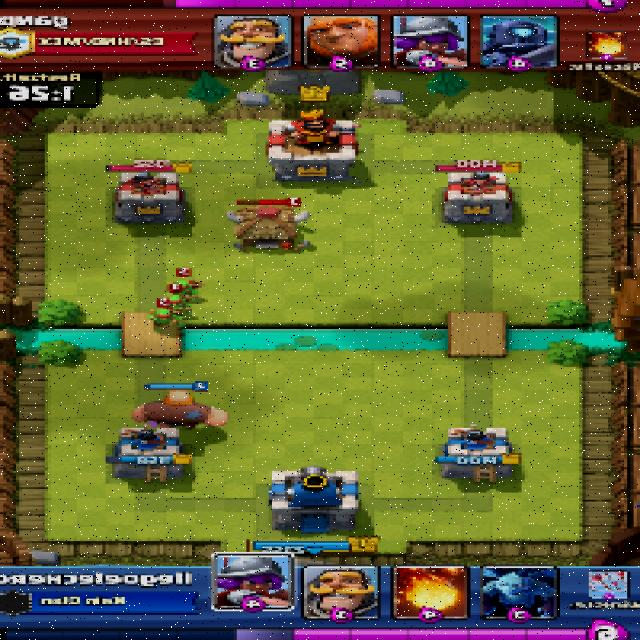Enemy-GoblinHut: (226, 206, 315, 252)
Enemy-SpearGoblin: (151, 307, 186, 330), (162, 296, 190, 316), (171, 279, 200, 292)
Player-Giant: (131, 391, 229, 427)
